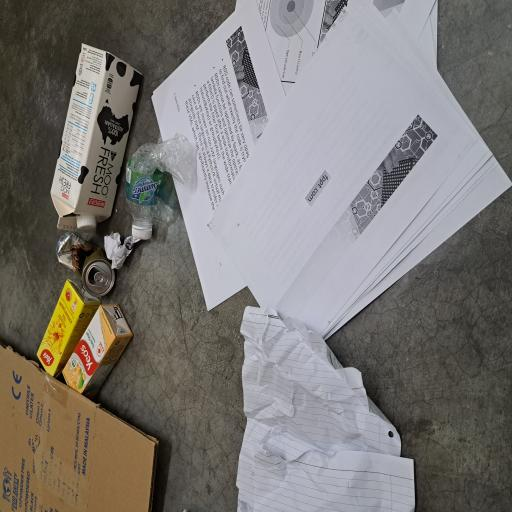can: (161, 74, 210, 154)
cardboard: (0, 0, 131, 214)
drink carton: (209, 66, 351, 190), (85, 83, 156, 178), (101, 48, 175, 135)
paper: (124, 204, 384, 512), (0, 314, 156, 512), (182, 140, 211, 188)
plastic bottle: (218, 166, 285, 262)
plastic bottle cap: (205, 175, 215, 203), (210, 103, 221, 128)
pop tab: (170, 125, 180, 145)
